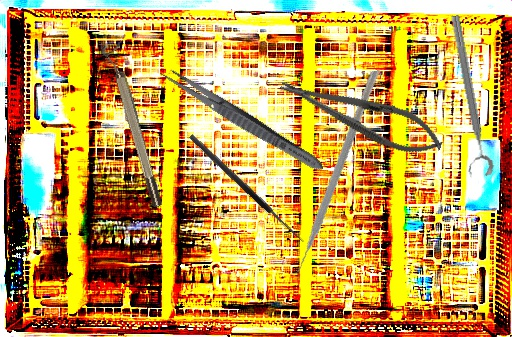Chopper: (243, 69, 415, 278)
Dressing Forceps: (156, 63, 328, 176)
Fixation Ring: (99, 40, 166, 211), (437, 13, 496, 180)
Hook Surgical: (187, 128, 312, 245)
Needle Holder: (274, 64, 449, 166)
